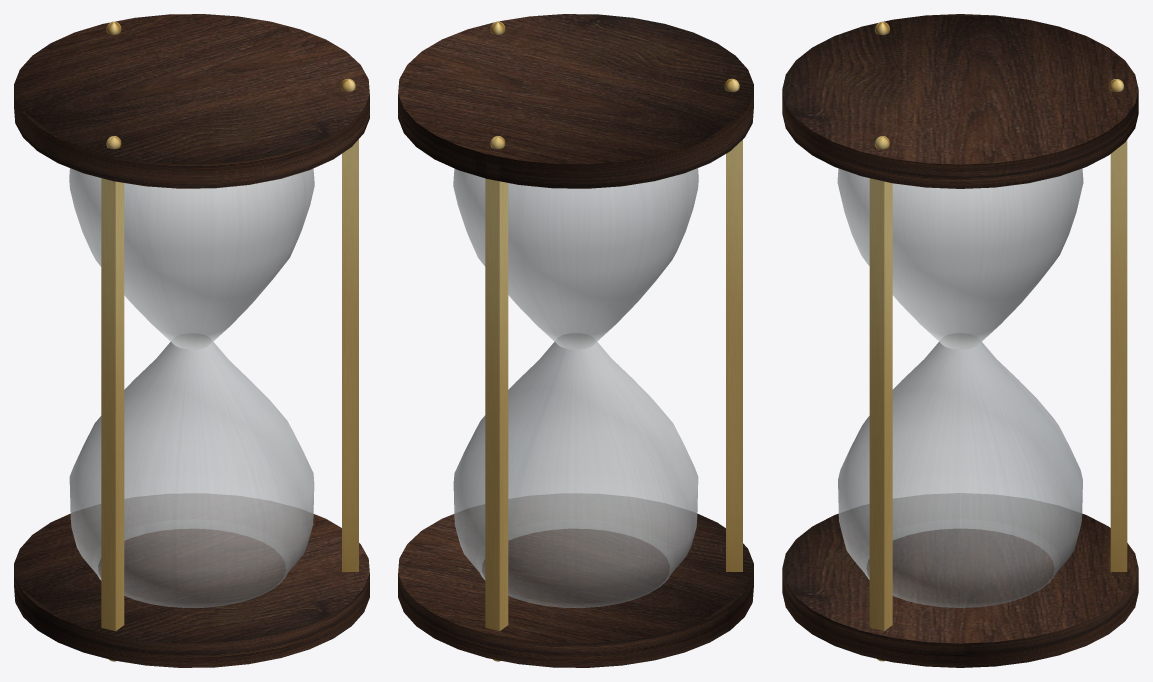
File: hourglass.glb
3 views of the same model, side by side, from view 1: azimuth 30°, elevation 25°; view 2: azimuth 150°, elevation 25°; view 3: azimuth 270°, elevation 25° (orthographic).
Parts seen in each view (by area): view 1: Cylinder, Cylinder.001, Cylinder.002, Cylinder.003, Cube, Sphere; view 2: Cylinder, Cylinder.001, Cylinder.002, Cylinder.003, Cube, Sphere; view 3: Cylinder, Cylinder.001, Cylinder.002, Cylinder.003, Cube, Sphere.
Boxes of the visible parts, x1,y1,x2,y2 form: Cylinder: (14,14,369,188); Cylinder.001: (14,494,369,667); Cylinder.002: (69,342,314,607); Cylinder.003: (69,168,314,349); Cube: (101,139,358,631); Sphere: (106,21,355,661); Cylinder: (398,14,753,188); Cylinder.001: (398,494,753,667); Cylinder.002: (453,342,698,607); Cylinder.003: (453,168,698,349); Cube: (485,140,742,631); Sphere: (490,21,739,661); Cylinder: (782,14,1138,188); Cylinder.001: (782,493,1138,667); Cylinder.002: (838,341,1082,607); Cylinder.003: (837,168,1083,349); Cube: (869,140,1127,630); Sphere: (875,21,1123,661).
Bounding box in the file's own units: 2 × 3.25 × 2.
Materials: 3 (3 with a texture image).
